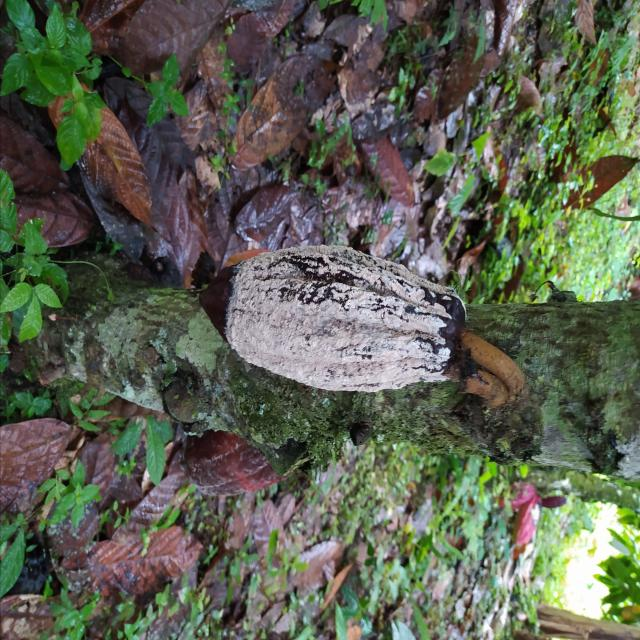Monilia: (194, 242, 466, 394)
